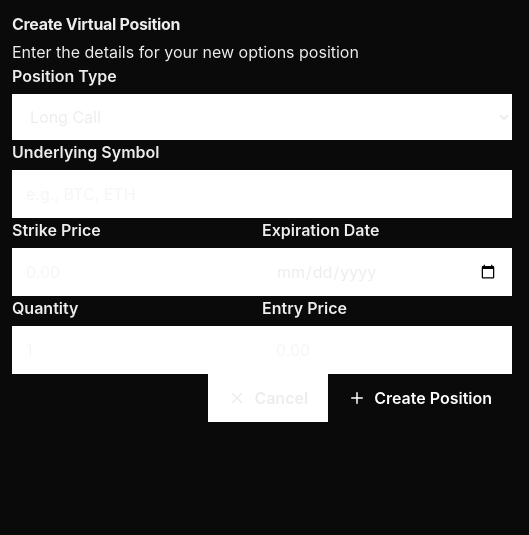
CreatePositionForm › shows error messages for all required fields on submit
Click the button "Create Position".
click(420, 398)  # box left=328, top=374, right=512, bottom=422
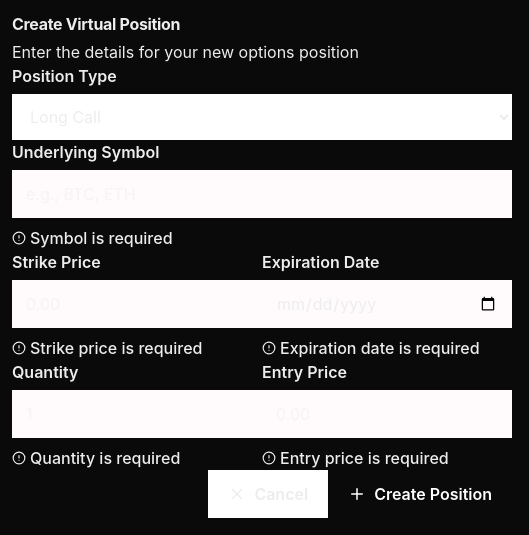
Expected: the text "Symbol is required" is shown, left=12, top=228, right=172, bottom=248
Expected: the text "Strike price is required" is shown, left=12, top=338, right=202, bottom=358
Expected: the text "Expiration date is required" is shown, left=262, top=336, right=512, bottom=360
